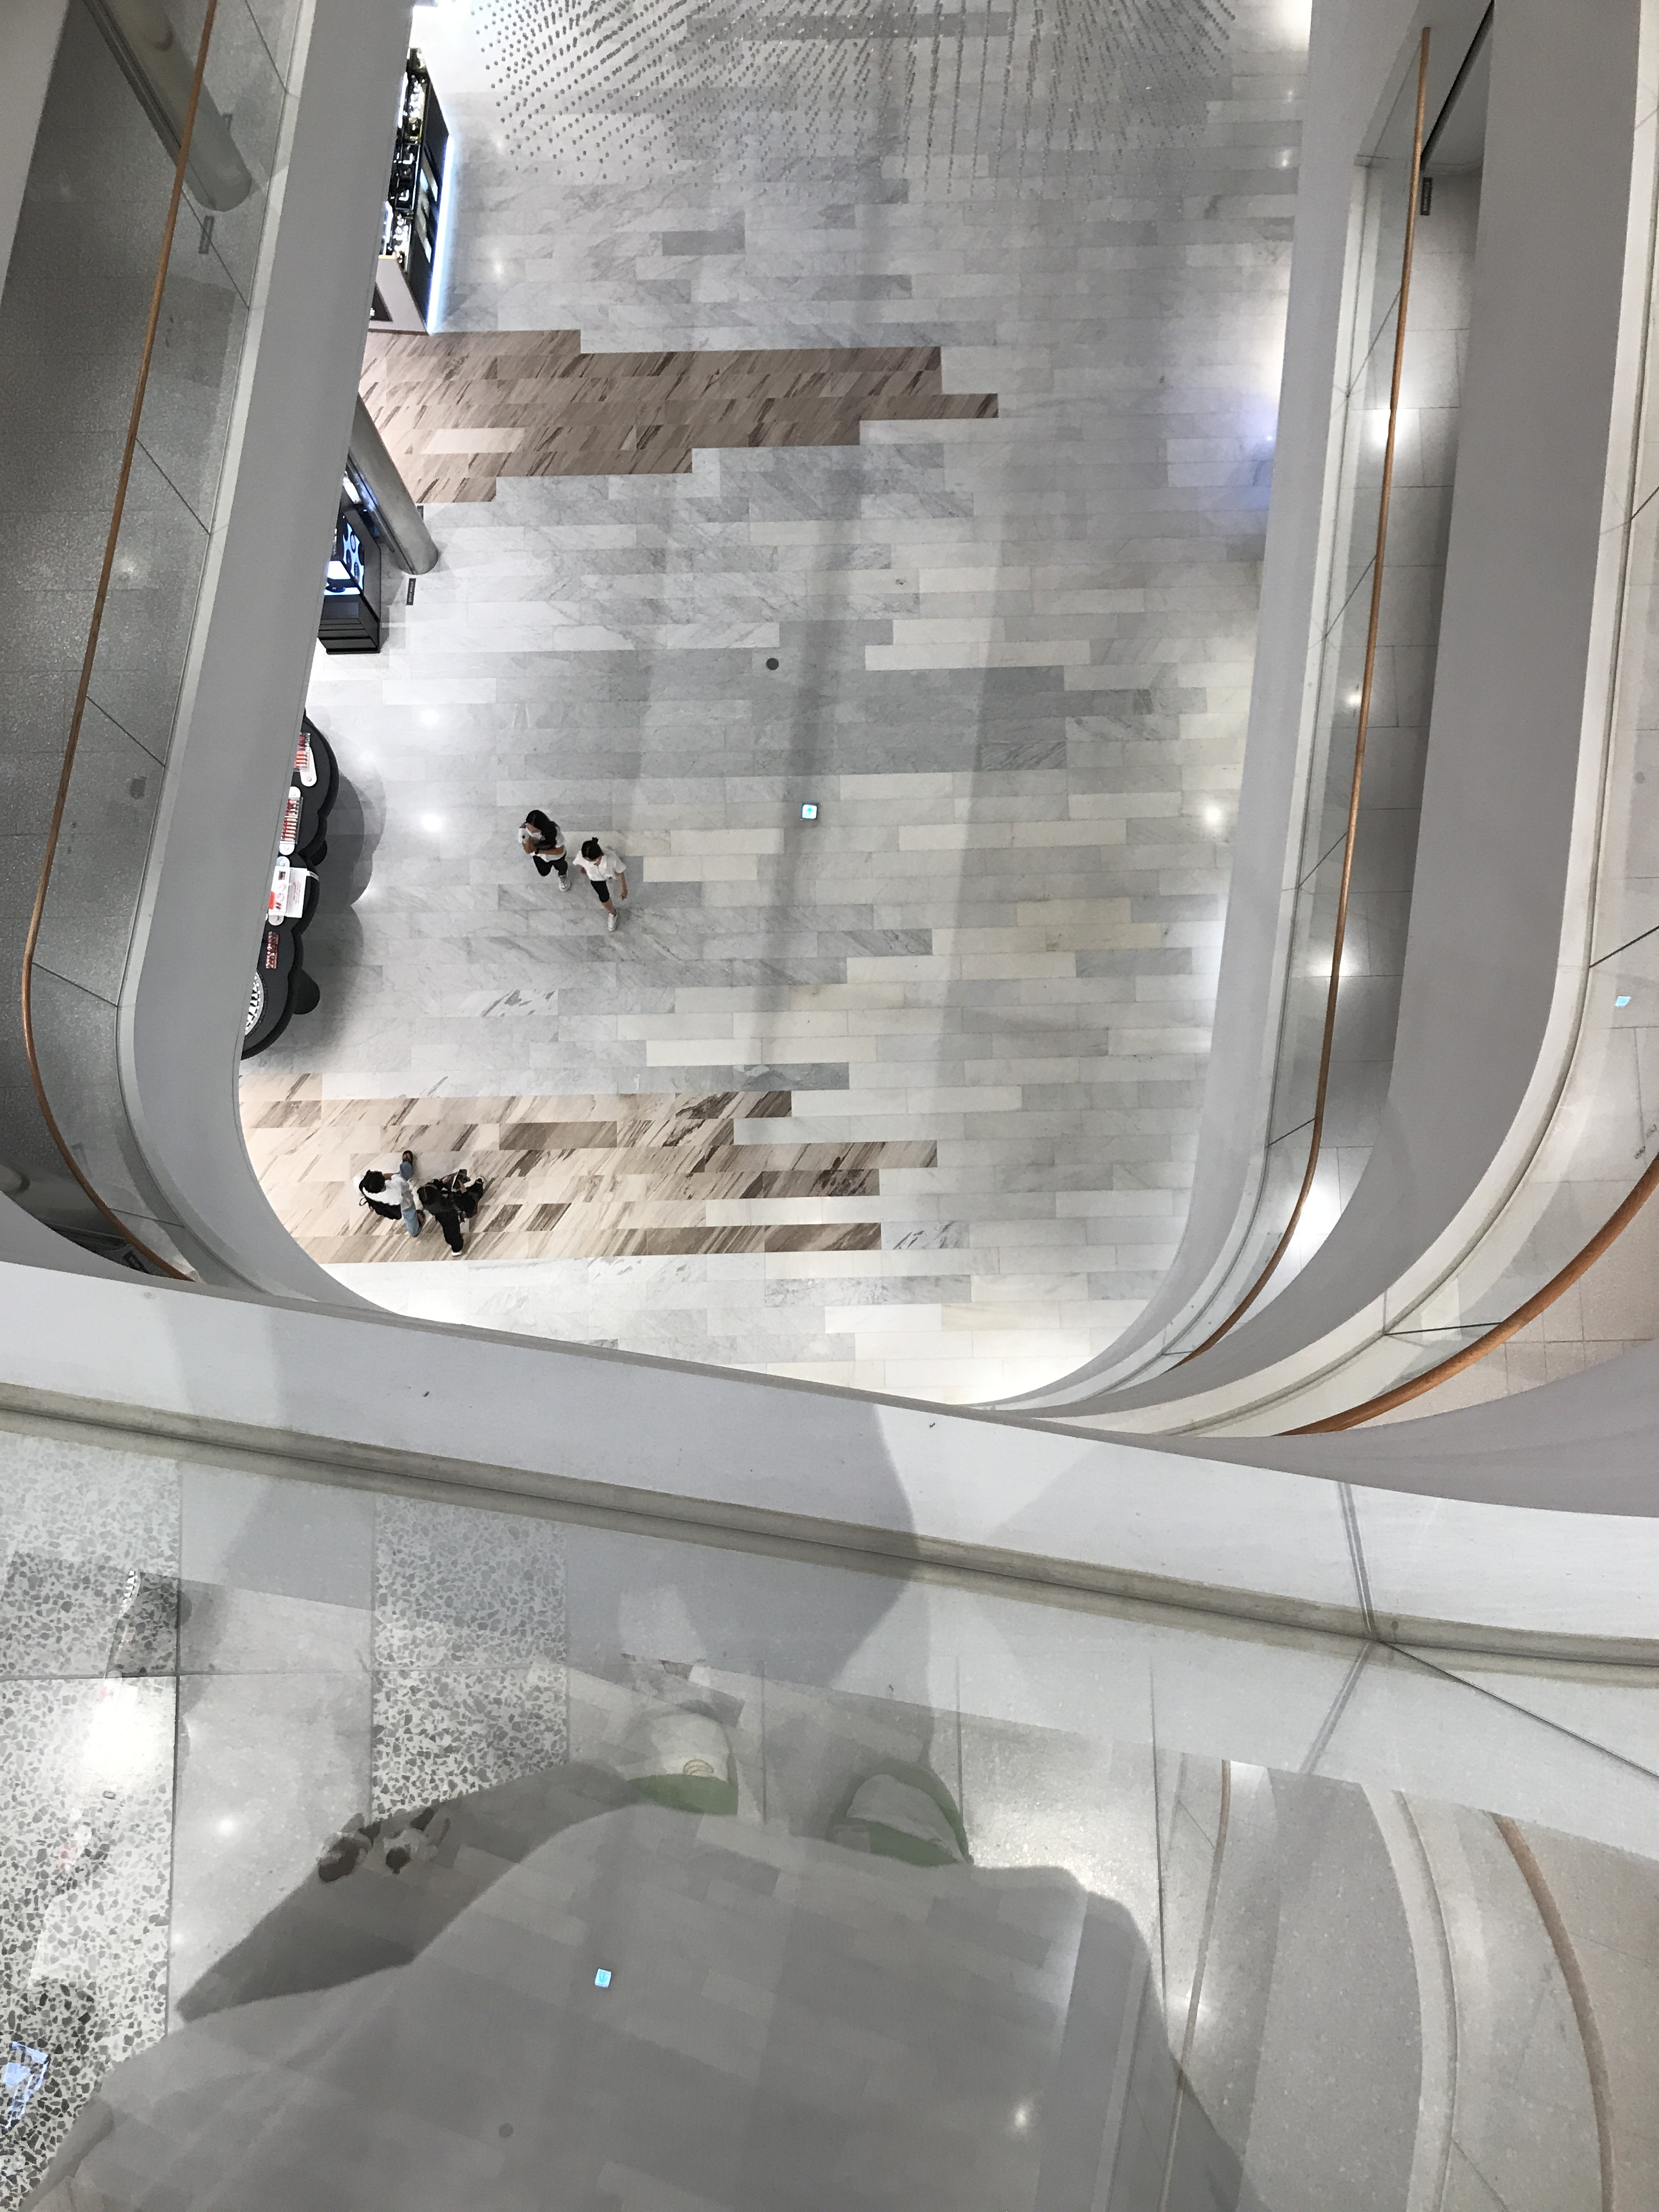person: (418, 1170, 489, 1260), (358, 1149, 426, 1240), (572, 836, 631, 932), (515, 806, 574, 893)
